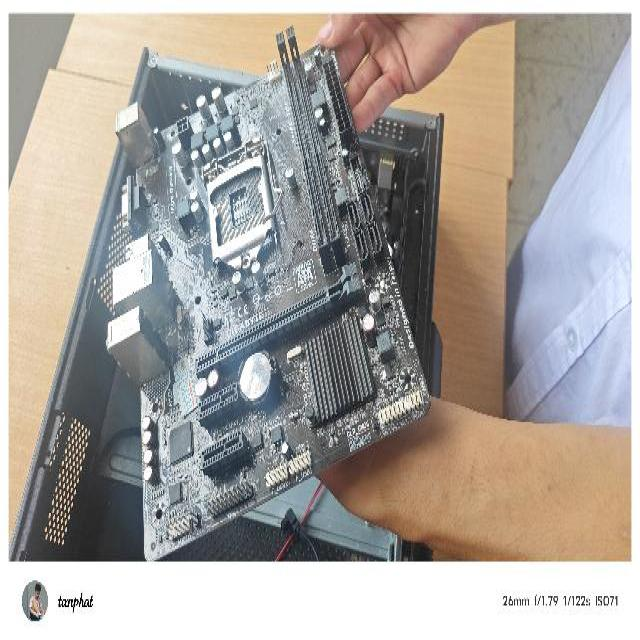Mainboard: (90, 19, 433, 563)
